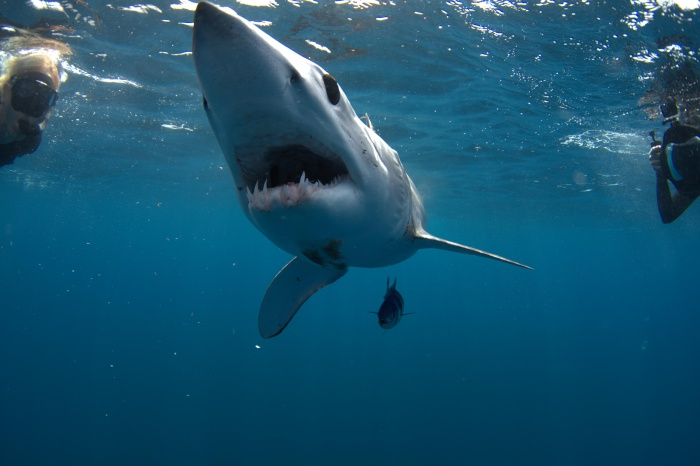Mako: (164, 1, 550, 337)
